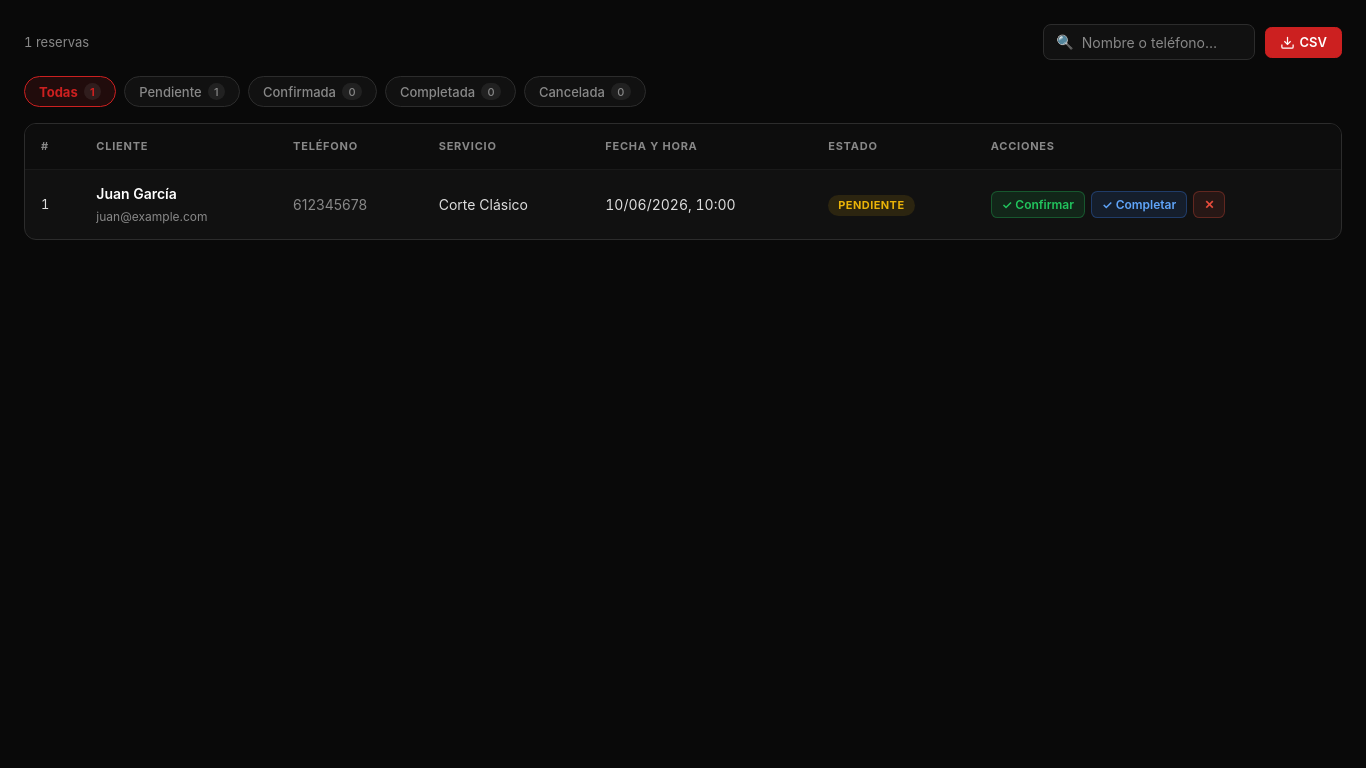
Scenario: AdminReservas › cierra el modal de cancelación al pulsar Escape
Expected: the text "Juan García" is shown, [96, 185, 177, 202]
Click the button "✕" at [1209, 205], box [1193, 191, 1225, 218]
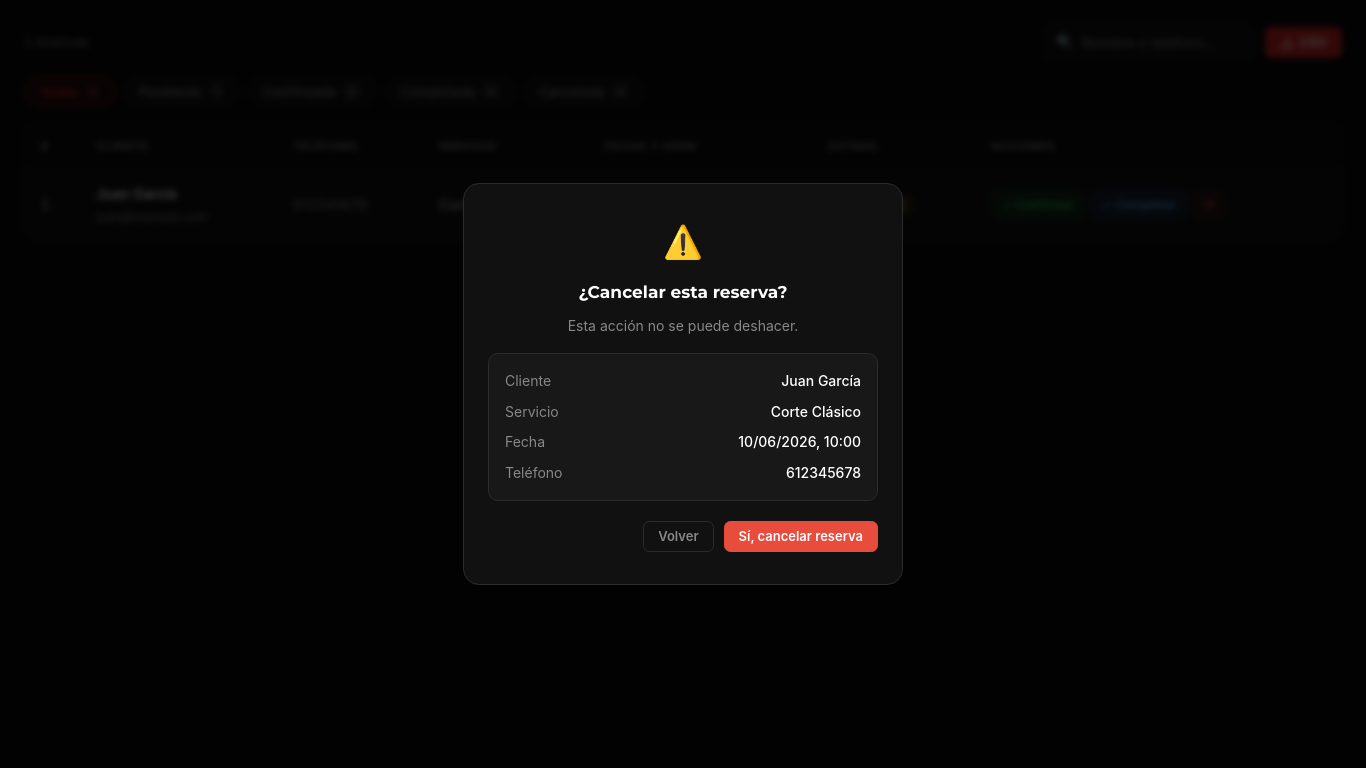
Expected: the dialog is shown
Press Escape
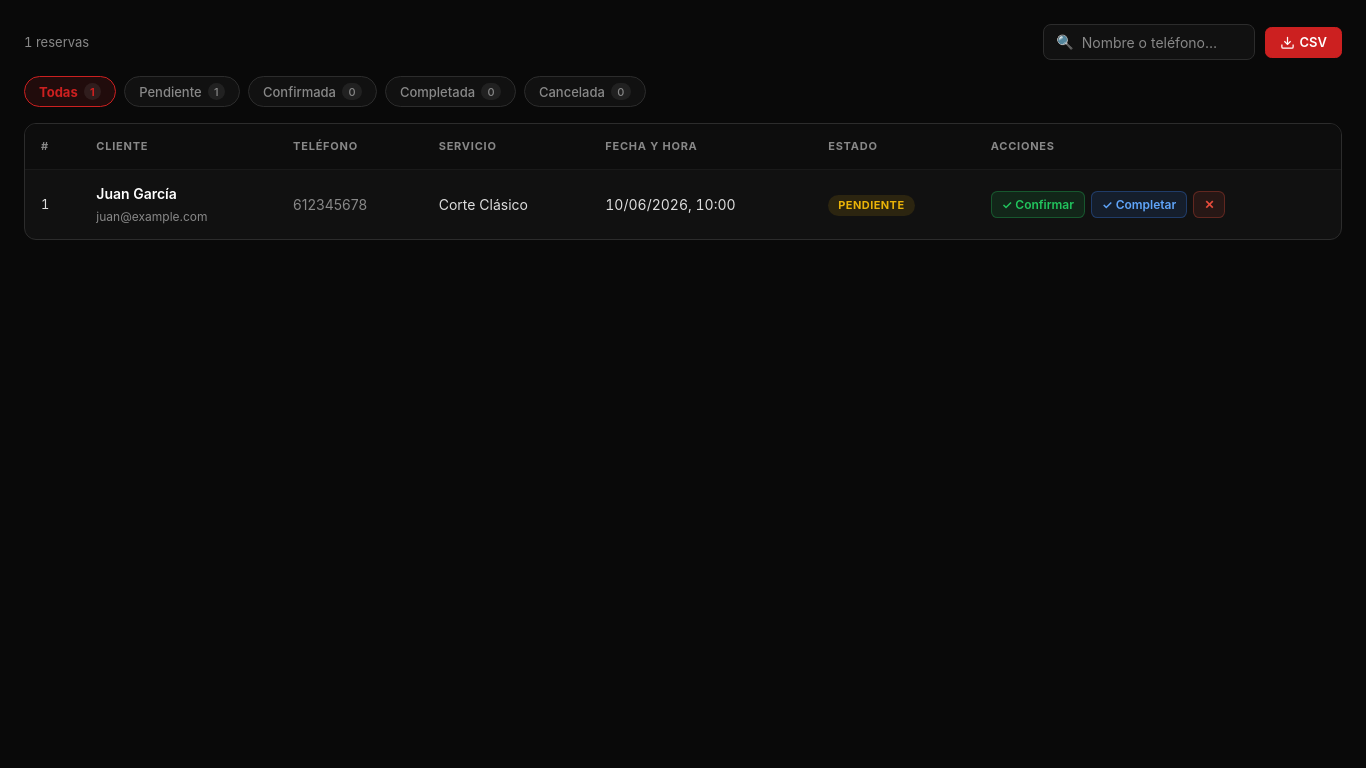
Expected: the dialog is gone
